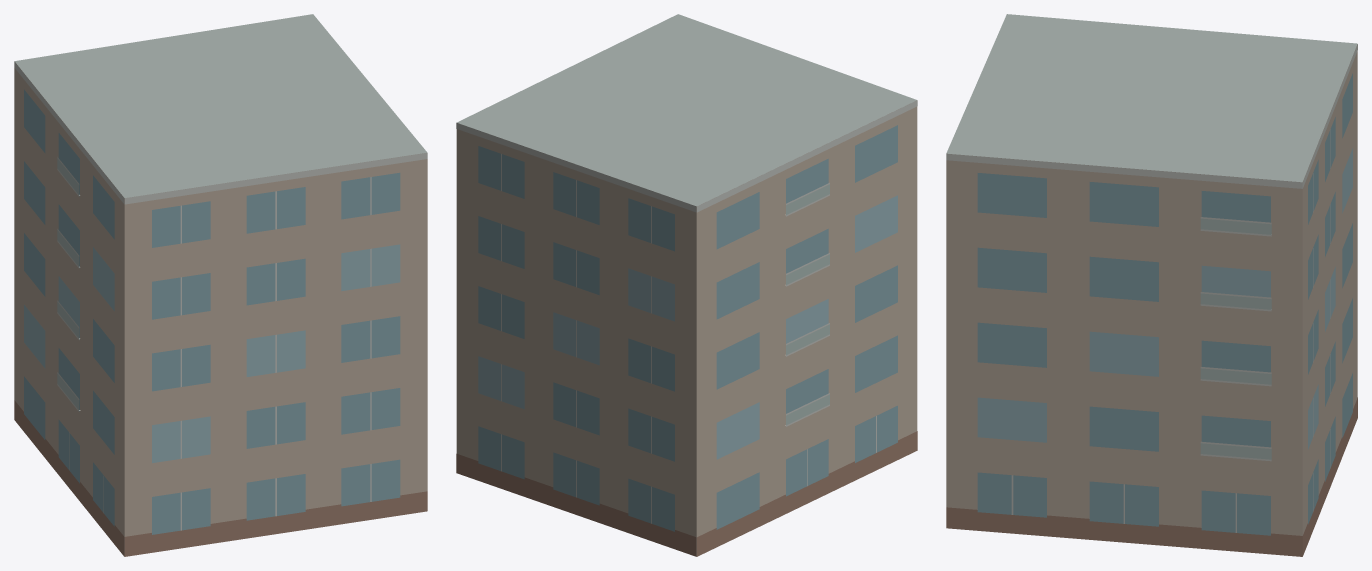
File: survey-upis-32980227.glb
3 renders of one model, left to right at view 1: azimuth 30°, elevation 25°; view 2: azimuth 150°, elevation 25°; view 3: azimuth 270°, elevation 25°, orthographic. The views are drawn at different scales.
Parts seen in each view (by area): view 1: survey-upis-32980227.tmp; view 2: survey-upis-32980227.tmp; view 3: survey-upis-32980227.tmp.
Boxes of the visible parts, x1,y1,x2,y2 form: survey-upis-32980227.tmp: [14, 14, 427, 556]; survey-upis-32980227.tmp: [456, 14, 917, 556]; survey-upis-32980227.tmp: [946, 14, 1357, 556].
Bounding box in the file's own units: 13.31 × 13.8 × 13.75.
